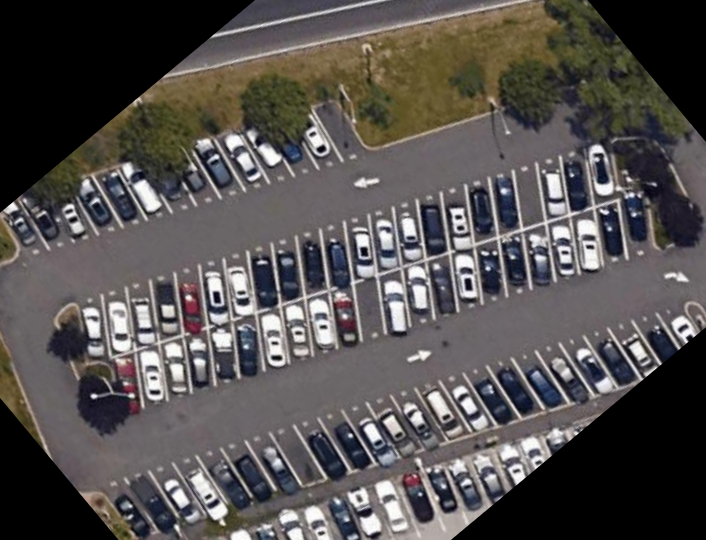parkingspot: (73, 133, 657, 430), (91, 301, 701, 540), (0, 96, 375, 261), (194, 413, 602, 540)
